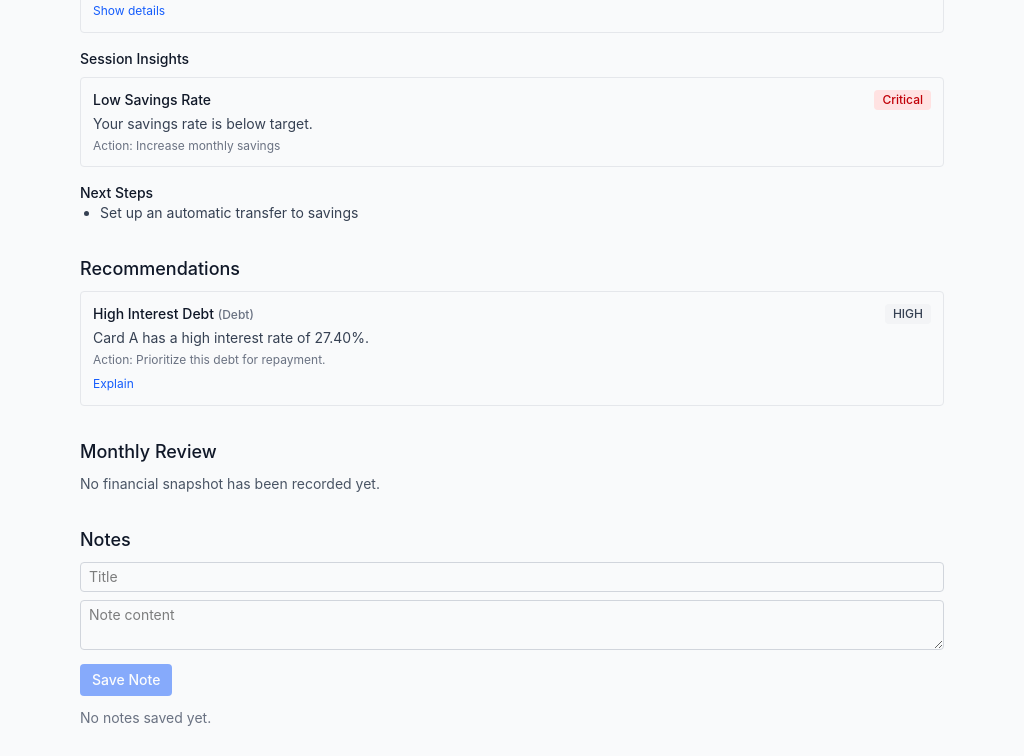
Test case: CoachPage › renders debt recommendations and fetches an explanation on click
The image size is (1024, 756).
(page scrolled)
Click the button "Explain".
click(113, 384)  # box [93, 376, 134, 392]
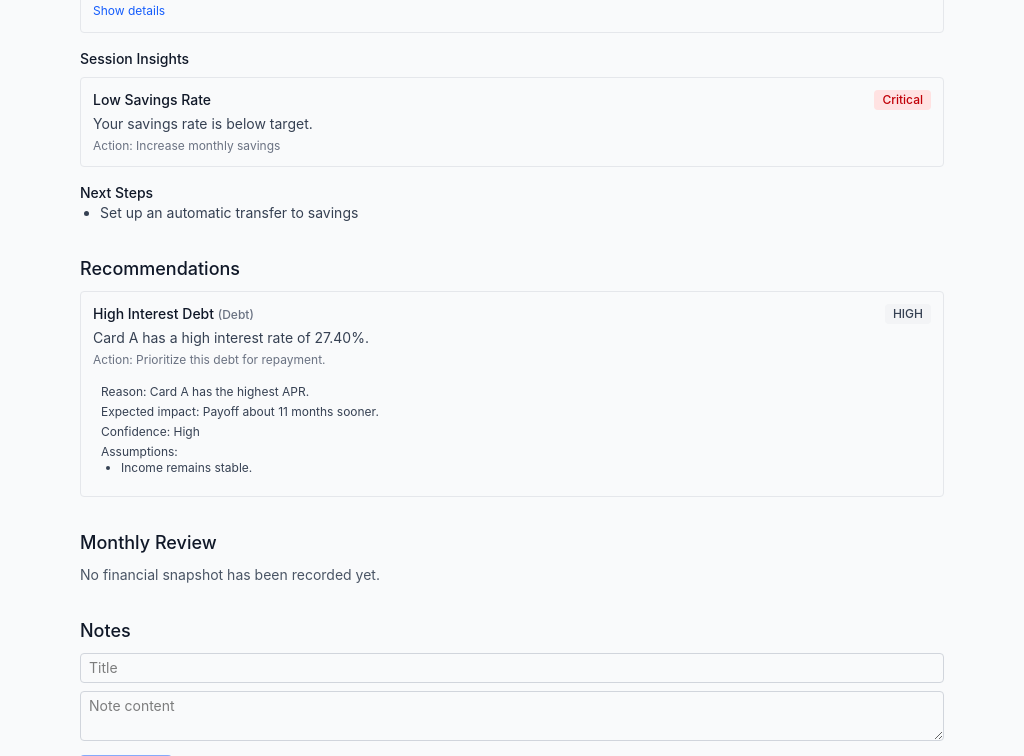
Check: the text "Reason: Card A has the highest APR." is shown, box [101, 384, 309, 399]
